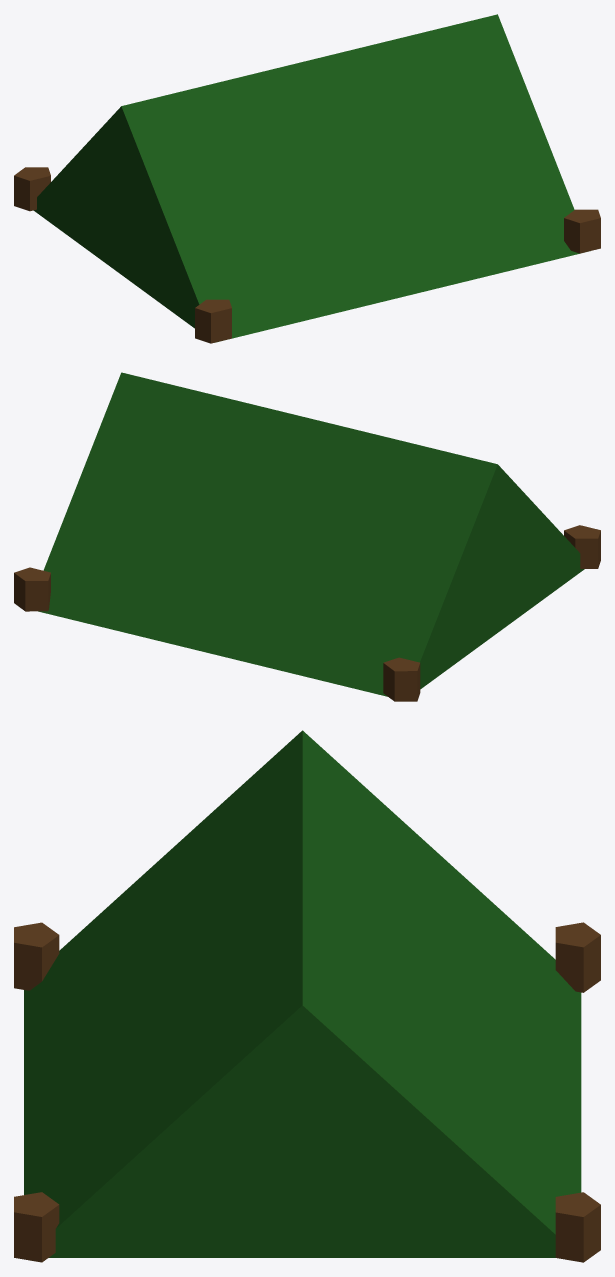
File: tent.fbx
The picture shows the model from 3 angles, top to bottom: view 1: azimuth 30°, elevation 25°; view 2: azimuth 150°, elevation 25°; view 3: azimuth 270°, elevation 25°; orthographic projection. The views are drawn at different scales.
Visible parts, largest first — view 1: Cube, Cube.002, Cube.001; view 2: Cube, Cube.001, Cube.002; view 3: Cube, Cube.001, Cube.002.
Boxes of the visible parts, x1,y1,x2,y2 form: Cube: (33, 14, 590, 342); Cube.002: (195, 209, 600, 343); Cube.001: (14, 167, 50, 211); Cube: (38, 372, 584, 696); Cube.001: (14, 567, 420, 701); Cube.002: (564, 525, 600, 568); Cube: (24, 730, 581, 1257); Cube.001: (555, 922, 600, 1262); Cube.002: (14, 922, 59, 1262).
Size of the model in its own units: 354 by 141 by 298.
